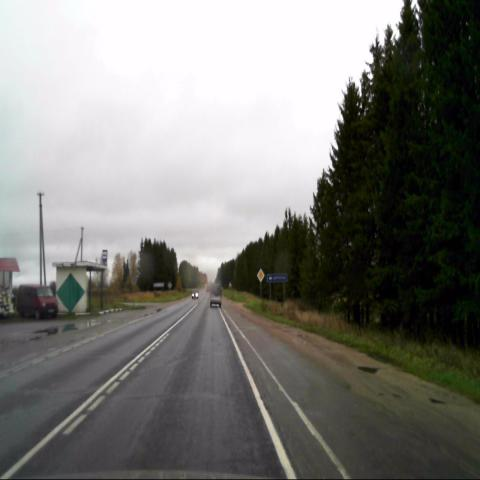2_1: (257, 269, 264, 282)
5_16: (101, 249, 108, 263)
